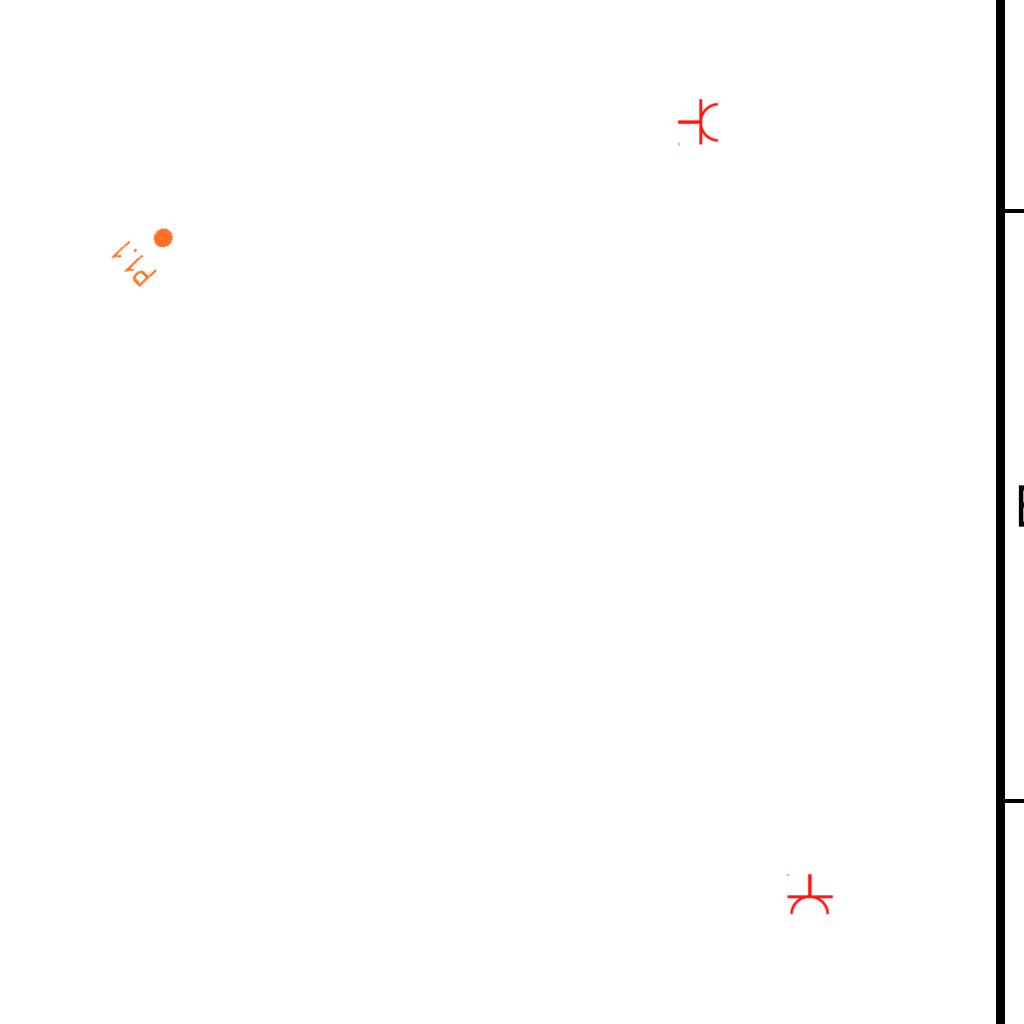Downlight_LED_Einbauleuchten_Flur: (107, 212, 187, 290)
Schukosteckdose_einfach: (784, 873, 834, 916), (677, 98, 720, 148)
